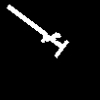double_crochet: (7, 5, 68, 56)
